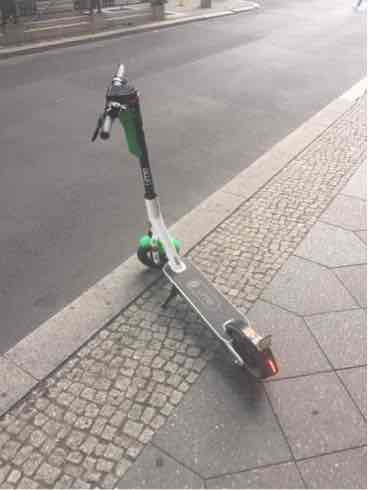too close: (112, 222, 199, 290)
